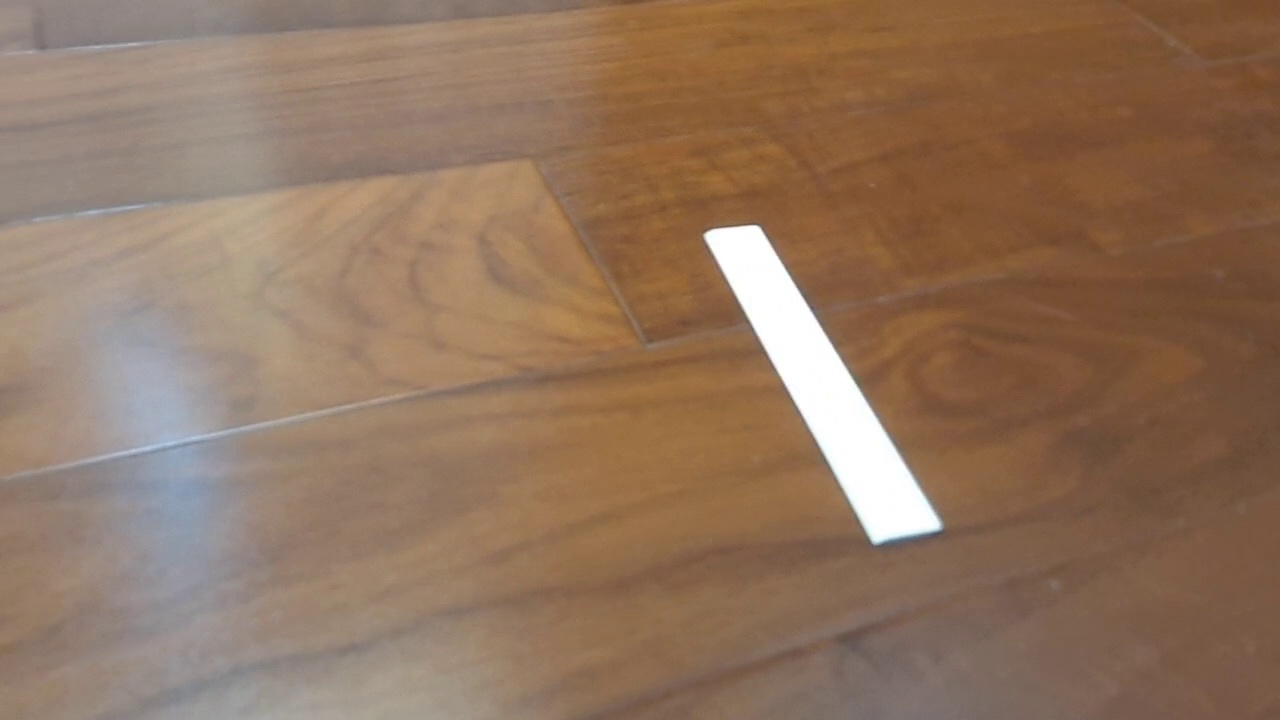ruler: (700, 222, 946, 550)
